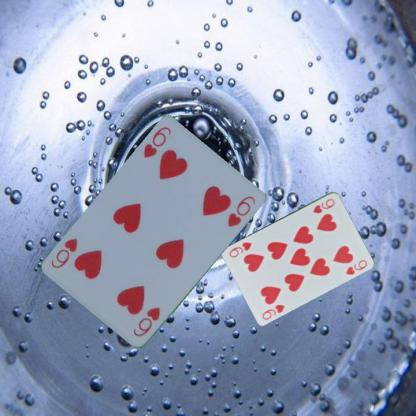6h: (140, 124, 173, 160), (130, 304, 162, 338)
9h: (259, 302, 286, 320), (310, 196, 336, 214)
